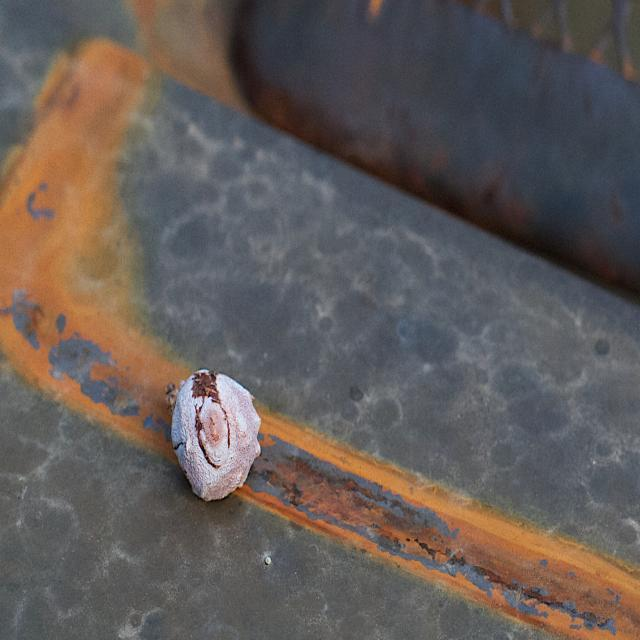Uniform Corrosion: (233, 411, 639, 639), (0, 71, 186, 459)
